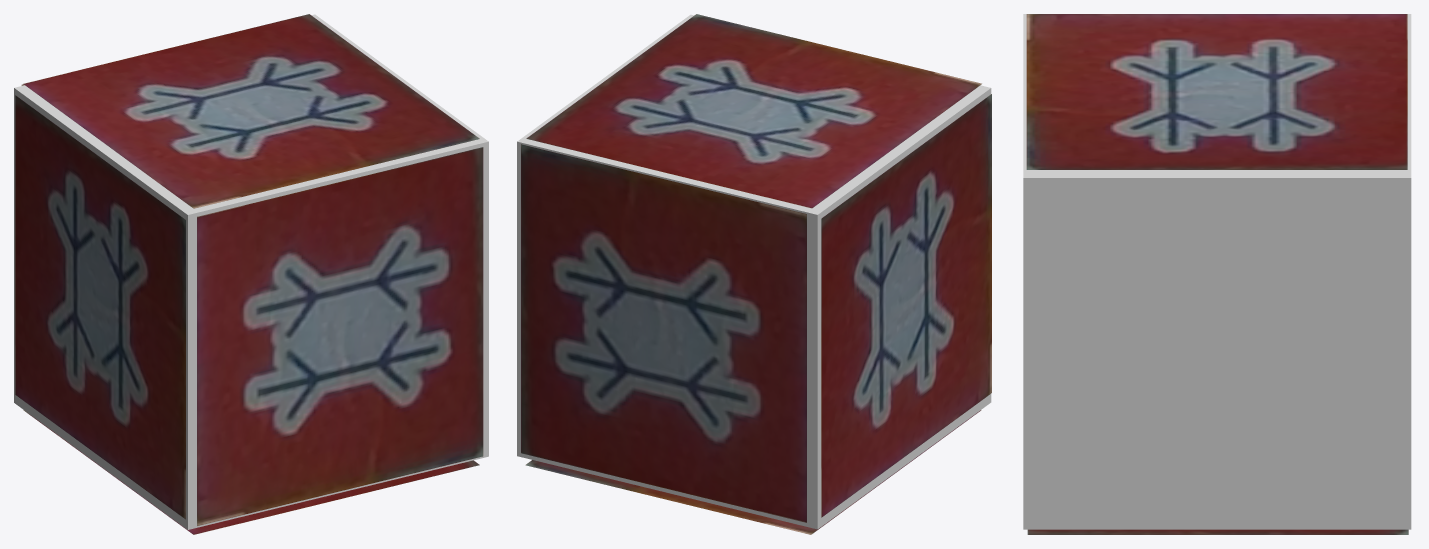
3 views of the same model, side by side, from view 1: azimuth 30°, elevation 25°; view 2: azimuth 150°, elevation 25°; view 3: azimuth 270°, elevation 25° (orthographic). The views are drawn at different scales.
Parts seen in each view (by area): view 1: fake2.png.005, fake2.png.001, fake2.png.003, Link35, fake2.png.004; view 2: fake2.png.002, fake2.png.001, fake2.png.003, Link35, fake2.png.004; view 3: Link35, fake2.png.003, fake2.png.004.
Boxes of the visible parts, x1=… form: fake2.png.005: x1=197, y1=147, x2=483, y2=525; fake2.png.001: x1=15, y1=95, x2=185, y2=519; fake2.png.003: x1=23, y1=14, x2=479, y2=208; Link35: x1=14, y1=14, x2=488, y2=529; fake2.png.004: x1=23, y1=410, x2=479, y2=534; fake2.png.002: x1=521, y1=144, x2=806, y2=522; fake2.png.001: x1=821, y1=94, x2=991, y2=517; fake2.png.003: x1=526, y1=14, x2=981, y2=208; Link35: x1=517, y1=14, x2=991, y2=529; fake2.png.004: x1=525, y1=410, x2=981, y2=534; Link35: x1=1023, y1=14, x2=1411, y2=529; fake2.png.003: x1=1026, y1=14, x2=1407, y2=169; fake2.png.004: x1=1027, y1=529, x2=1408, y2=534.
Size of the model in its own units: 0.3515 by 0.3561 by 0.3629.
Materials: 1 (1 with a texture image).
